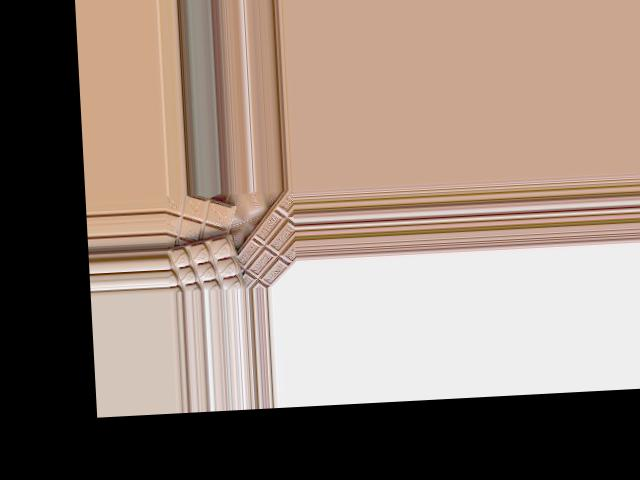chocolate: (163, 198, 237, 258)
